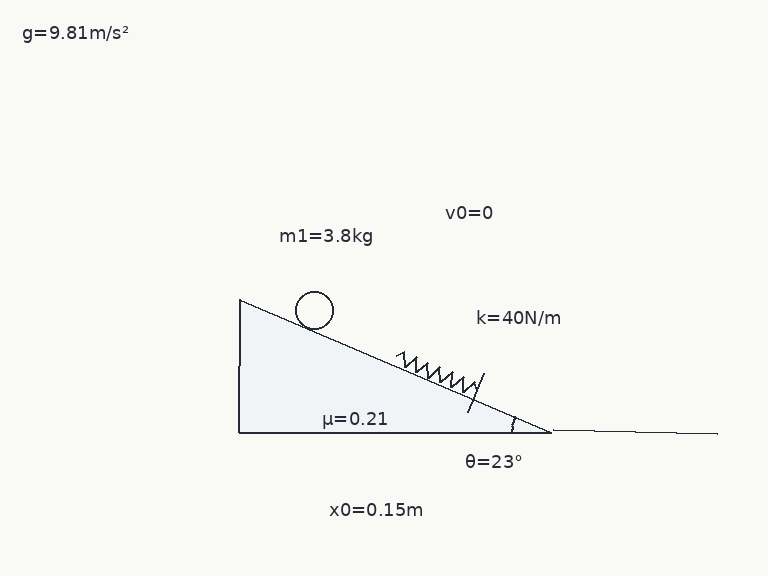ball: (293, 289, 335, 331)
ramp: (237, 297, 554, 434)
spring: (394, 350, 479, 394)
